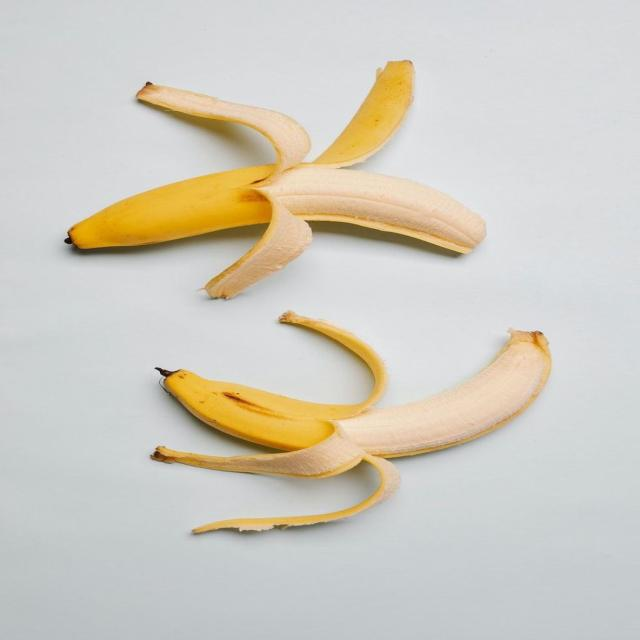banana: (68, 61, 484, 297), (153, 312, 550, 532), (159, 312, 386, 450), (339, 330, 551, 457), (152, 428, 399, 533), (137, 83, 311, 177)
